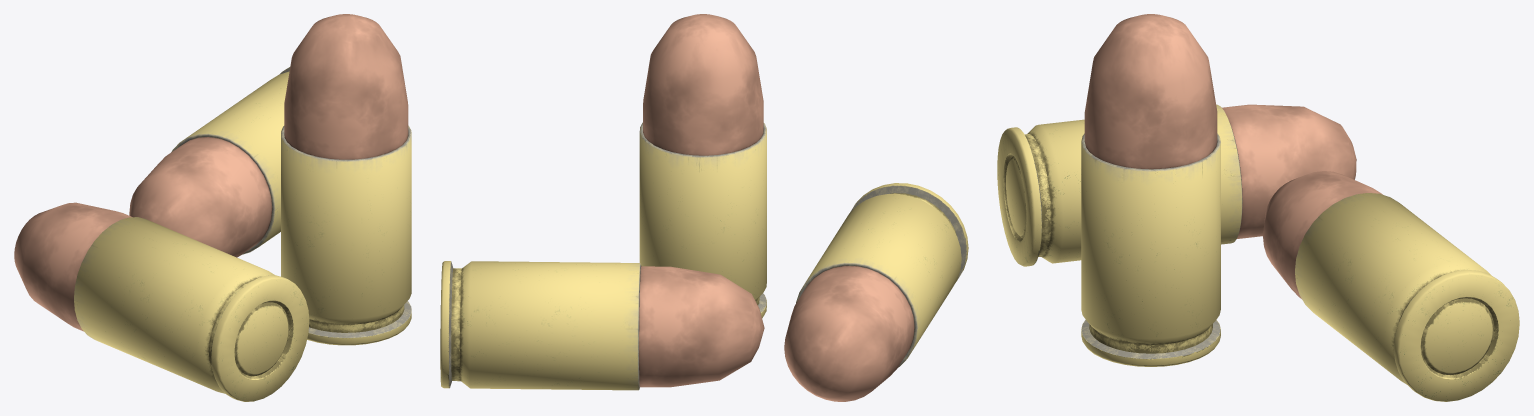
3 views of the same model, side by side, from view 1: azimuth 30°, elevation 25°; view 2: azimuth 150°, elevation 25°; view 3: azimuth 270°, elevation 25° (orthographic). The views are drawn at different scales.
Visible parts, largest first — view 1: 9mmBullet, 9mmBullet.001, 9mmBullet.002; view 2: 9mmBullet.002, 9mmBullet, 9mmBullet.001; view 3: 9mmBullet, 9mmBullet.002, 9mmBullet.001.
Boxes of the visible parts, x1,y1,x2,y2 form: 9mmBullet: (281,14,411,345); 9mmBullet.001: (14,202,309,401); 9mmBullet.002: (129,67,290,257); 9mmBullet.002: (440,261,764,390); 9mmBullet: (639,14,766,318); 9mmBullet.001: (784,183,968,401); 9mmBullet: (1081,14,1220,366); 9mmBullet.002: (1263,171,1519,401); 9mmBullet.001: (997,104,1356,266).
Size of the model in its own units: 715 by 506 by 748.
